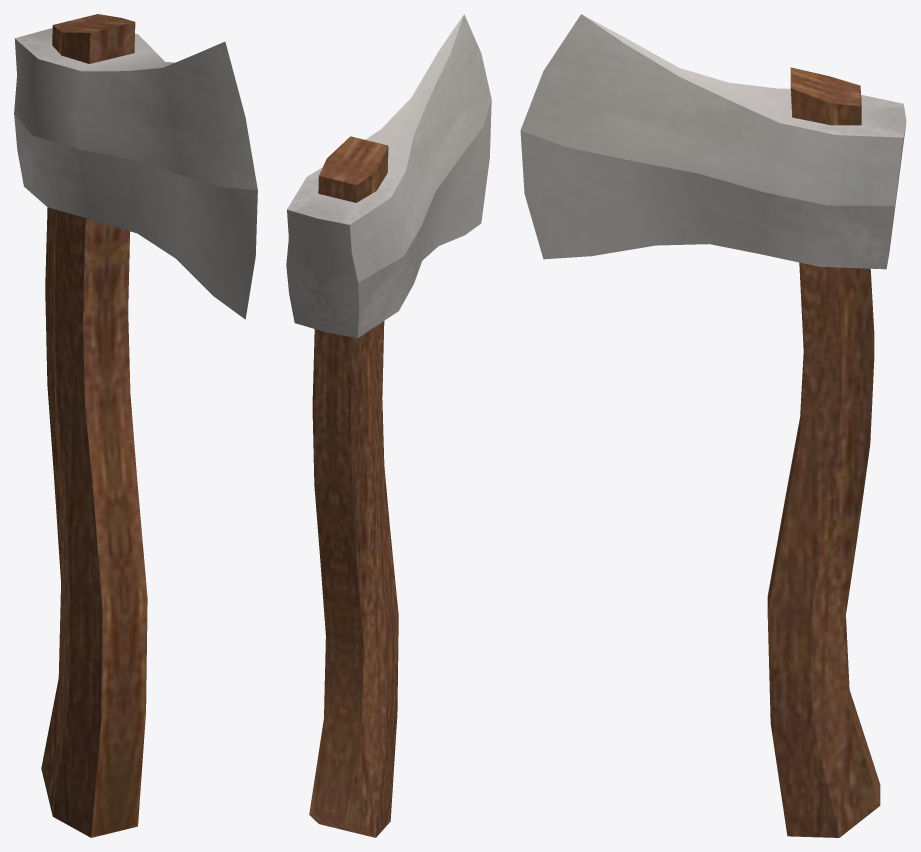
File: Axe.fbx
3 renders of one model, left to right at view 1: azimuth 30°, elevation 25°; view 2: azimuth 150°, elevation 25°; view 3: azimuth 270°, elevation 25°, orthographic. The views are drawn at different scales.
Visible parts, largest first — view 1: Handle, Head; view 2: Handle, Head; view 3: Head, Handle.
Part boxes in pixels (x1=…): Handle: x1=41, y1=14, x2=147, y2=837; Head: x1=14, y1=28, x2=257, y2=319; Handle: x1=309, y1=136, x2=398, y2=837; Head: x1=286, y1=14, x2=491, y2=338; Head: x1=520, y1=14, x2=906, y2=269; Handle: x1=767, y1=67, x2=880, y2=837.
Size of the model in its own units: 280 by 1928 by 831.
